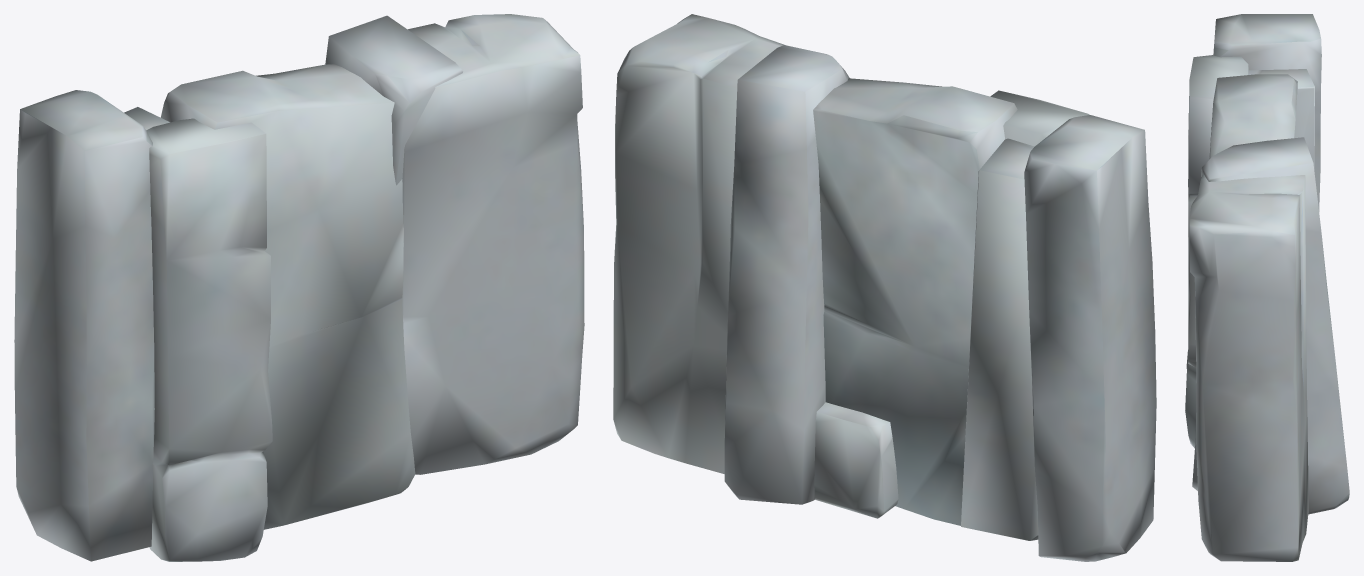
Rendered from P_CubicCliff04.obj.
3 views of the same model, side by side, from view 1: azimuth 30°, elevation 25°; view 2: azimuth 150°, elevation 25°; view 3: azimuth 270°, elevation 25° (orthographic). The views are drawn at different scales.
Size of the model in its own units: 26.93 by 21.88 by 8.83.
